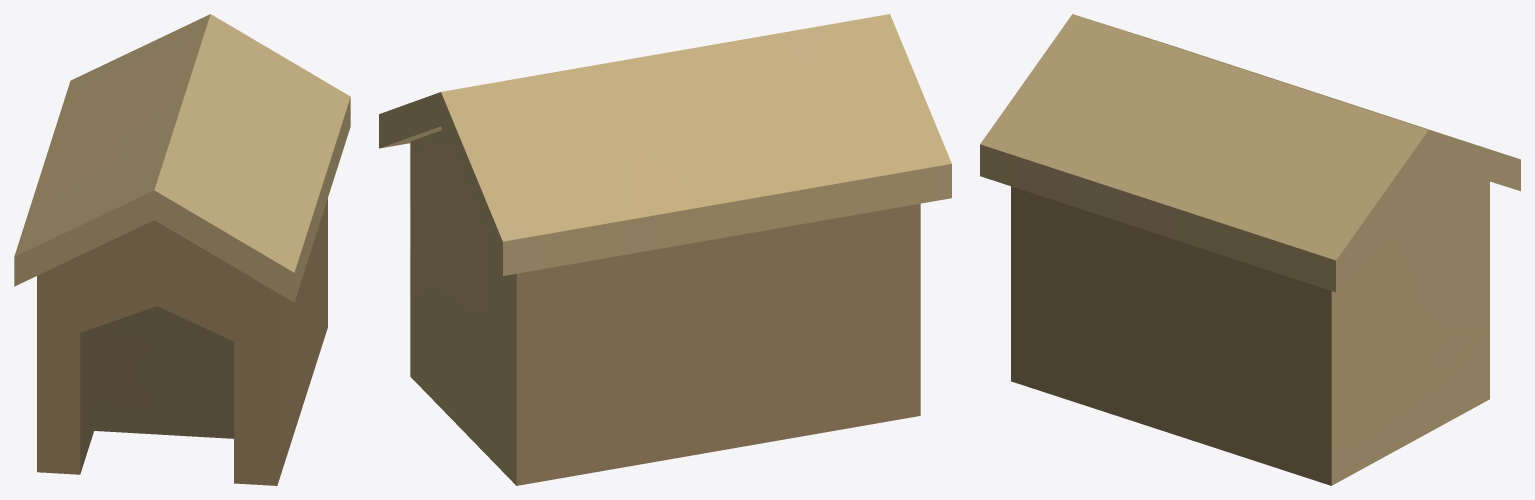
File: birdhouse.FBX
The picture shows the model from 3 angles, left to right: view 1: azimuth 30°, elevation 25°; view 2: azimuth 150°, elevation 25°; view 3: azimuth 270°, elevation 25°; orthographic projection. The views are drawn at different scales.
Parts seen in each view (by area): view 1: Box056; view 2: Box056; view 3: Box056.
Boxes of the visible parts, x1=… form: Box056: x1=14, y1=14, x2=350, y2=485; Box056: x1=379, y1=14, x2=951, y2=485; Box056: x1=980, y1=14, x2=1520, y2=485.
Size of the model in its own units: 7.36 by 5.02 by 7.74.
1 material, 1 textured.
